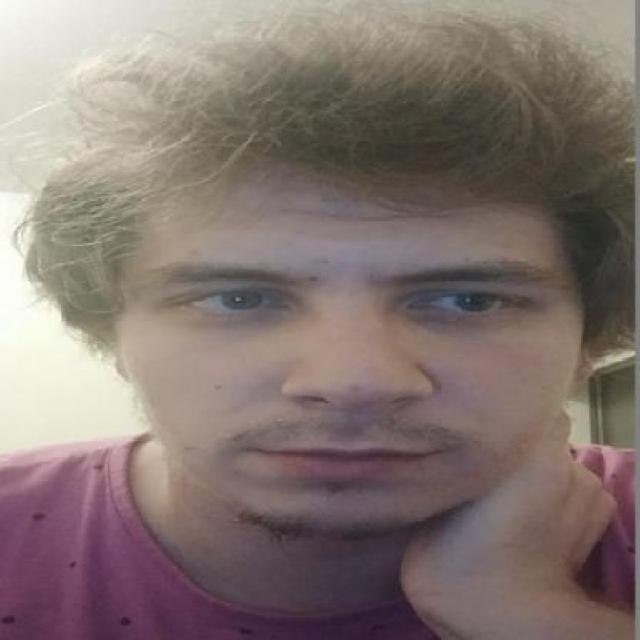awake: (157, 285, 289, 317), (406, 287, 536, 319)
